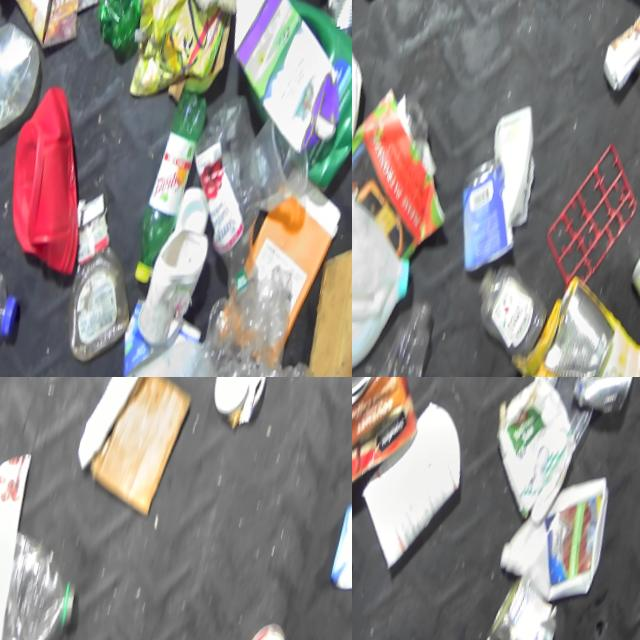can: (352, 377, 434, 531), (443, 151, 532, 287), (540, 283, 623, 377), (482, 577, 562, 640), (562, 377, 640, 433), (233, 618, 297, 640)
milk_jug: (493, 463, 623, 630), (352, 189, 424, 377)
plastic_bottle: (0, 506, 89, 640), (465, 262, 556, 374), (359, 292, 449, 377)
